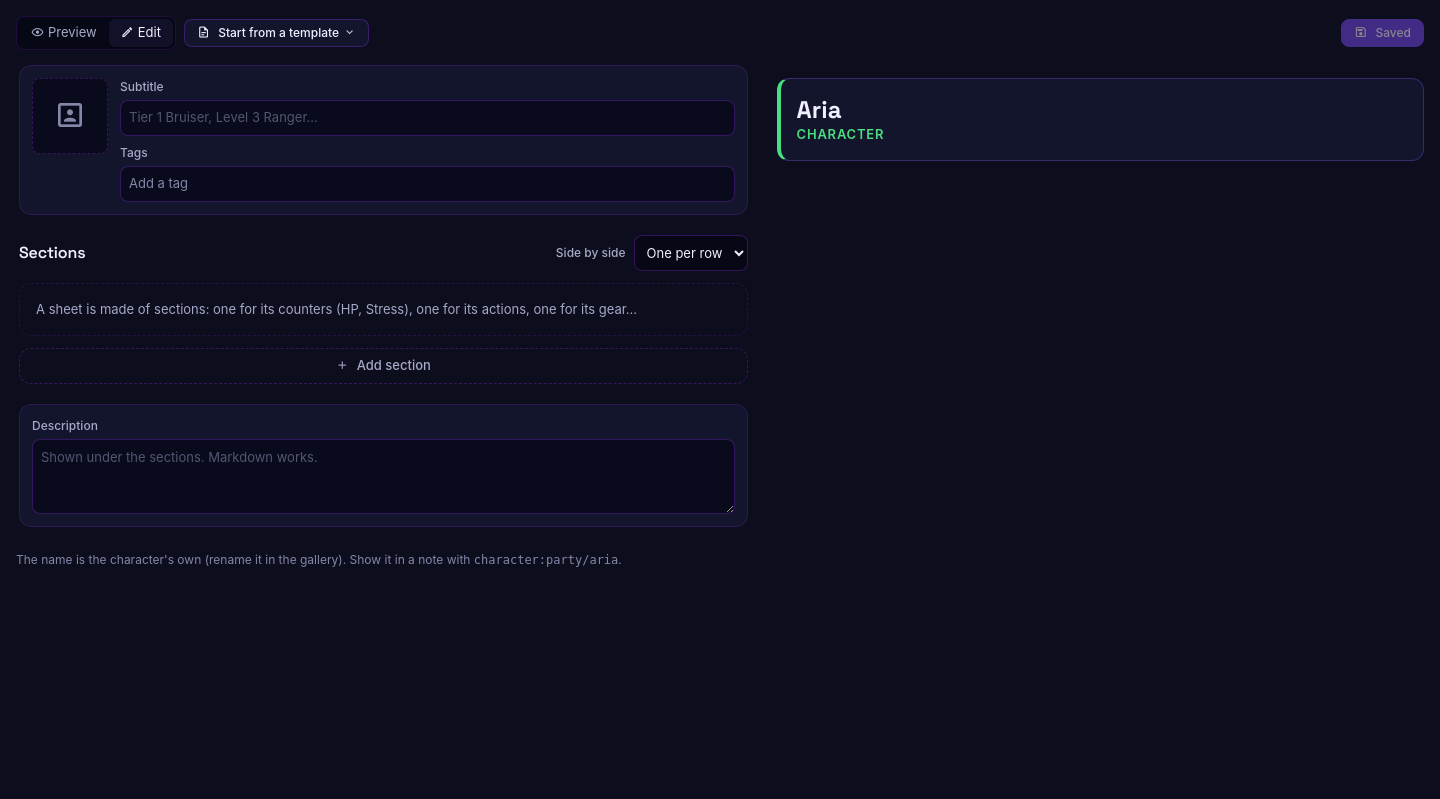
CharacterEditor › offers a template for an empty sheet
What coordinates should you click on to do the following:
click the button "Start from a template"
I would click on:
 (277, 33)
Its box is x1=184 y1=19 x2=369 y2=47.
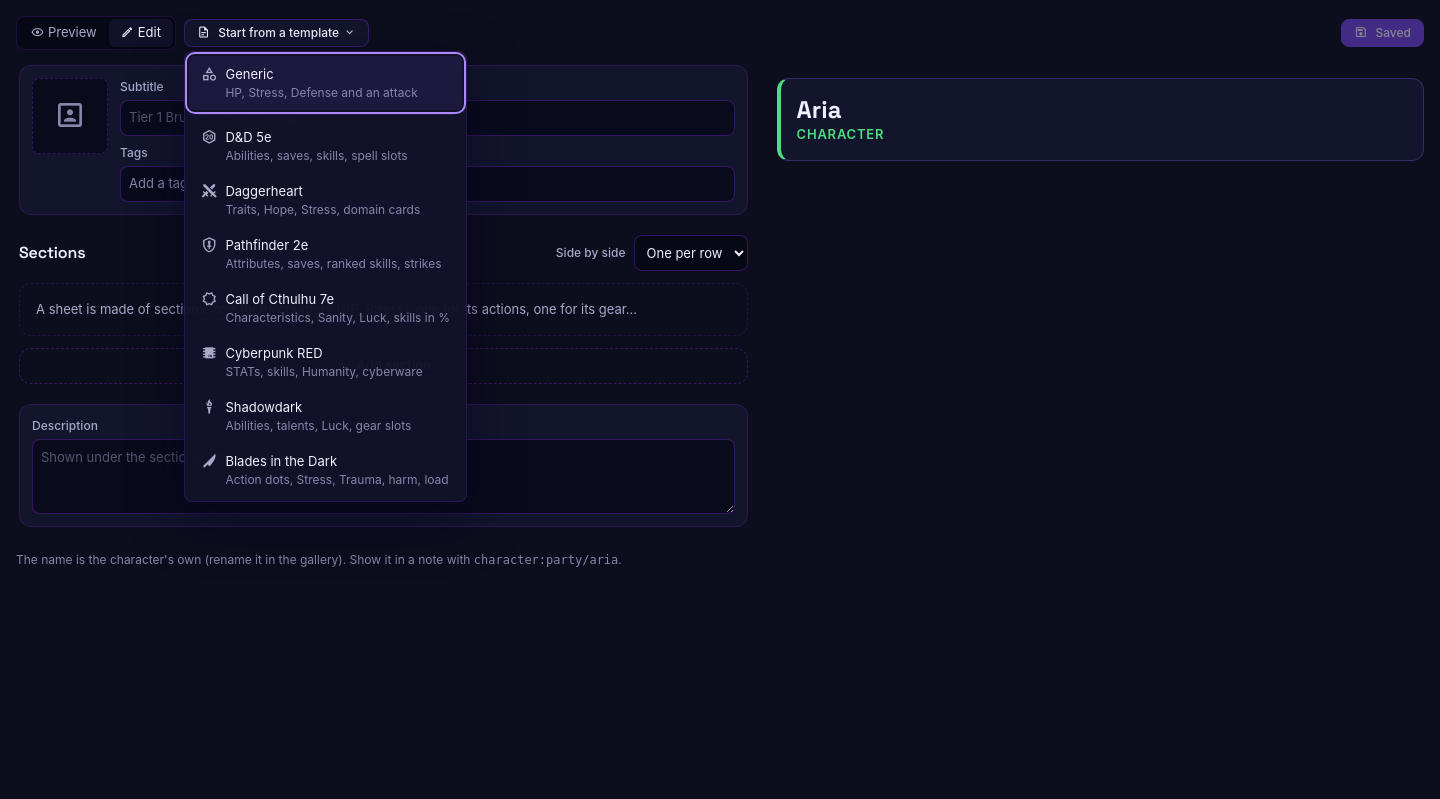
What coordinates should you click on to do the following:
click the menu item "D&D 5e Abilities, saves, skills, spell slots"
I would click on:
 (325, 146)
Its box is x1=189 y1=119 x2=462 y2=173.
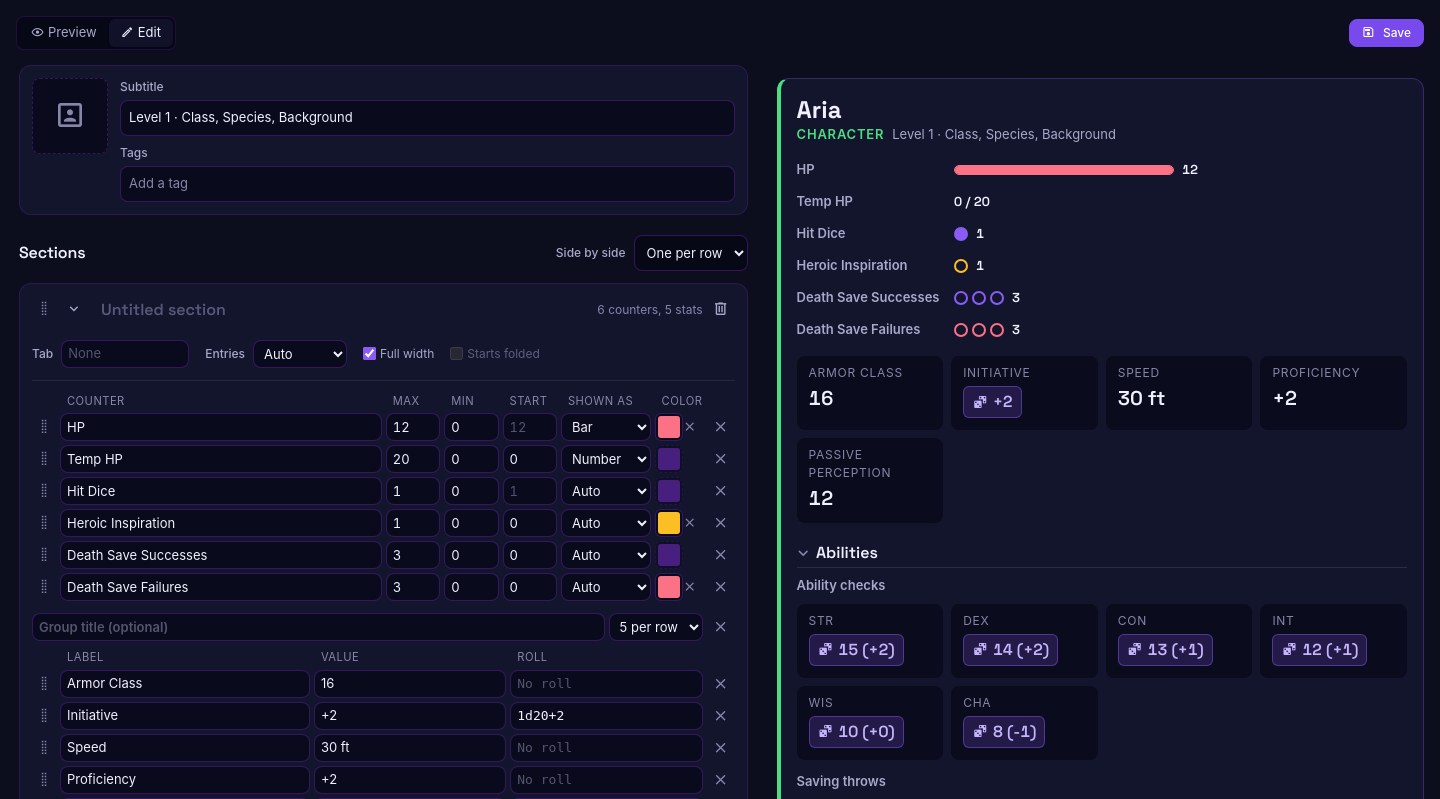
Expected: the 1st field named "Counter name" is shown, x1=60 y1=413 x2=382 y2=441
